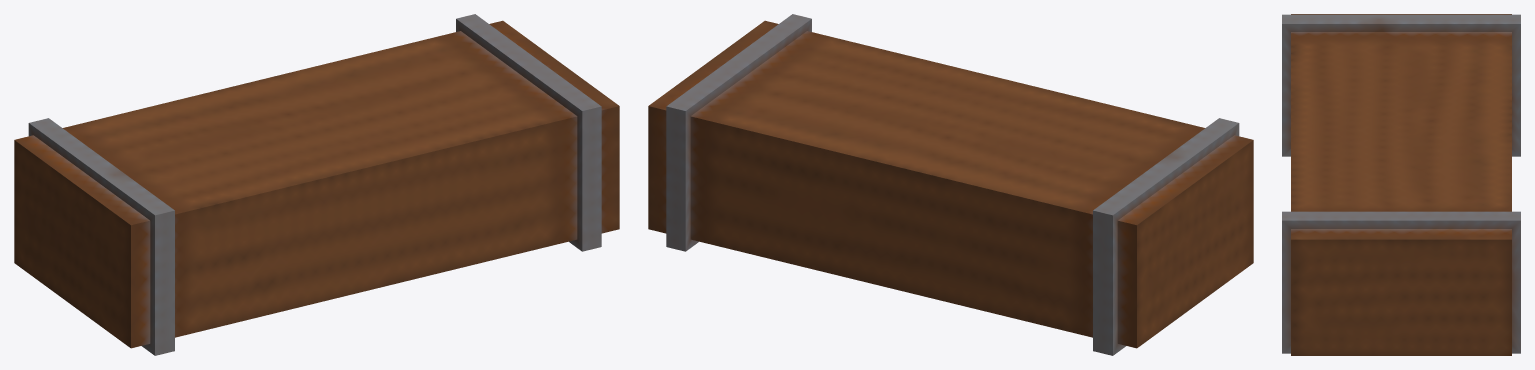
Rendered from Create.fbx.
The picture shows the model from 3 angles, left to right: view 1: azimuth 30°, elevation 25°; view 2: azimuth 150°, elevation 25°; view 3: azimuth 270°, elevation 25°; orthographic projection. The views are drawn at different scales.
Visible parts, largest first — view 1: pCube21; view 2: pCube21; view 3: pCube21.
Boxes of the visible parts, x1=… form: pCube21: x1=14, y1=14, x2=619, y2=355; pCube21: x1=648, y1=14, x2=1253, y2=355; pCube21: x1=1282, y1=14, x2=1520, y2=355.
Size of the model in its own units: 0.7823 by 0.215 by 0.3501.
